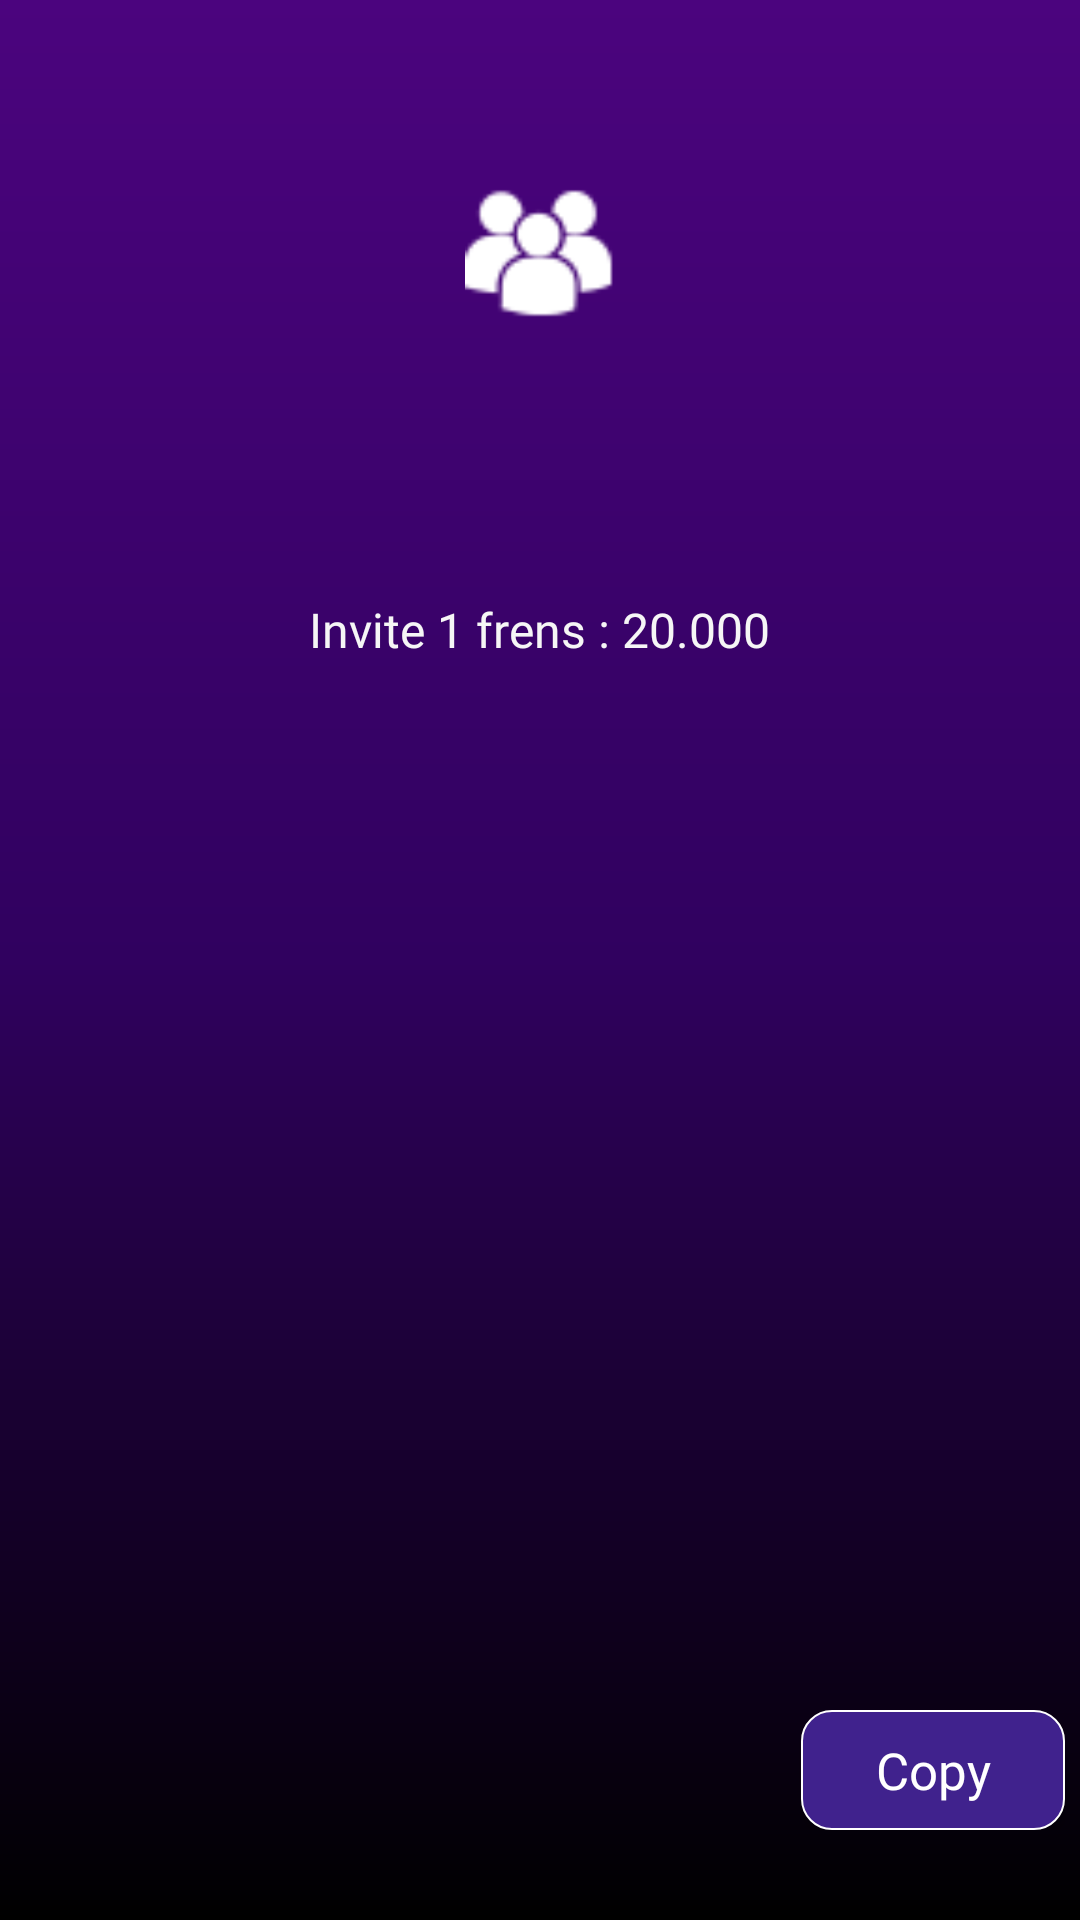

Named icons in this screenshot (1080*1920) and their bounding boxes, (x1=x1, y1=y1, x2=x2, y2=y2):
referral: (x1=465, y1=190, x2=613, y2=317)
